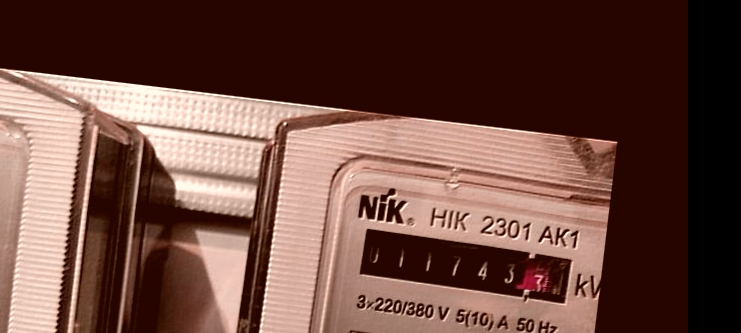0: (366, 238, 383, 266)
1: (393, 241, 410, 271), (421, 245, 437, 275)
3: (501, 259, 518, 287), (529, 272, 546, 295)
4: (475, 257, 492, 283)
7: (447, 252, 464, 278)
screen: (351, 222, 583, 313)
